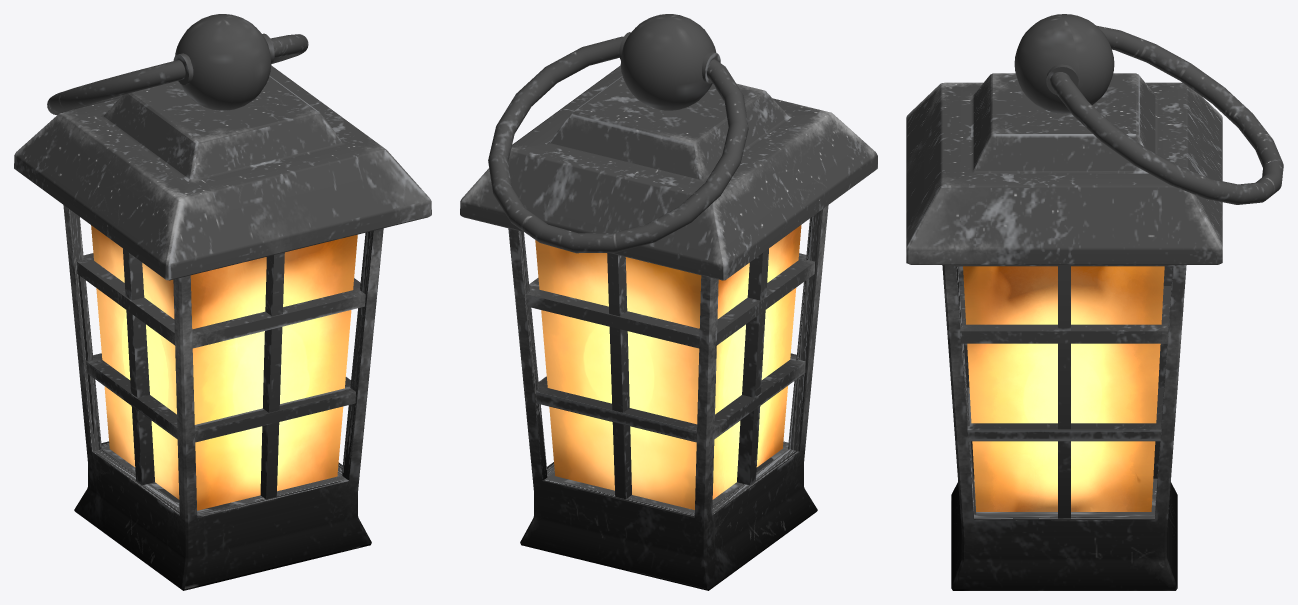
3 views of the same model, side by side, from view 1: azimuth 30°, elevation 25°; view 2: azimuth 150°, elevation 25°; view 3: azimuth 270°, elevation 25° (orthographic). The views are drawn at different scales.
Parts seen in each view (by area): view 1: Metal, Light; view 2: Metal, Light; view 3: Metal, Light.
Boxes of the visible parts, x1,y1,x2,y2 form: Metal: [14, 14, 431, 590]; Light: [91, 225, 357, 510]; Metal: [460, 14, 877, 590]; Light: [535, 225, 801, 509]; Metal: [906, 14, 1283, 590]; Light: [963, 266, 1164, 511].
Size of the model in its own units: 30.67 by 56.18 by 36.59.
2 materials, 2 textured.
